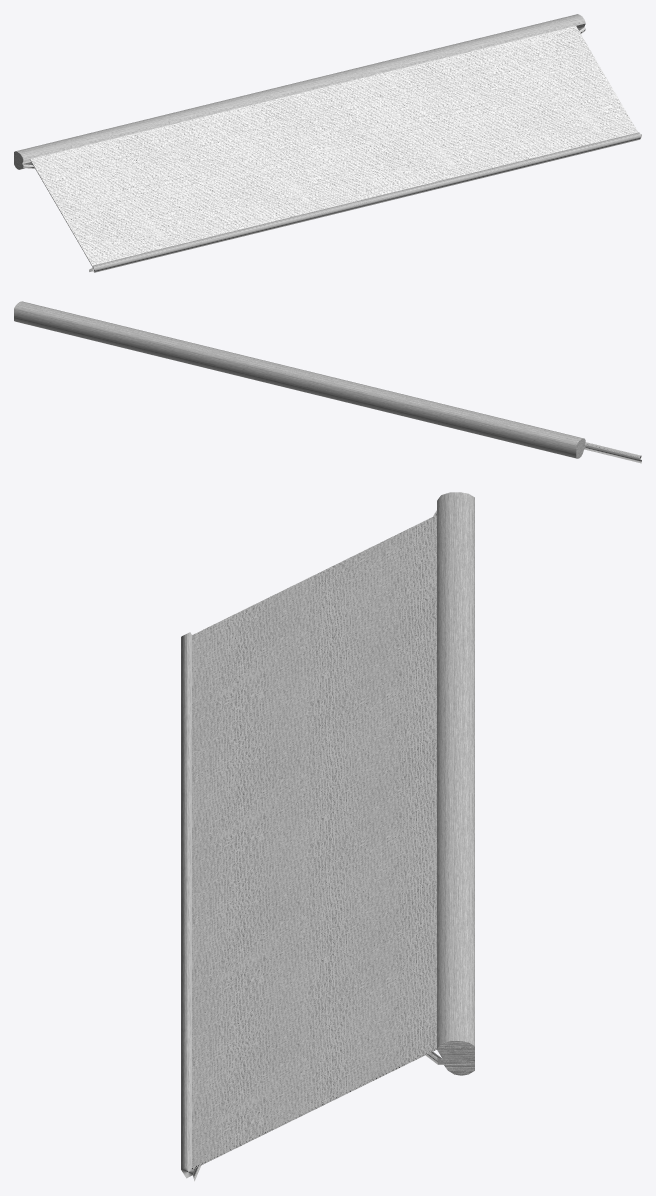
The model's file is BalkonStoren.glb.
The picture shows the model from 3 angles, top to bottom: view 1: azimuth 30°, elevation 25°; view 2: azimuth 150°, elevation 25°; view 3: azimuth 270°, elevation 25°; orthographic projection. The views are drawn at different scales.
Parts seen in each view (by area): view 1: Cylinder; view 2: Cylinder; view 3: Cylinder.
Part boxes in pixels (x1,y1,x2,y2): Cylinder: (14,14,641,272); Cylinder: (14,301,641,463); Cylinder: (181,492,474,1181).
Size of the model in its own units: 9.59 by 1.19 by 2.17.
Materials: 2 (2 with a texture image).
